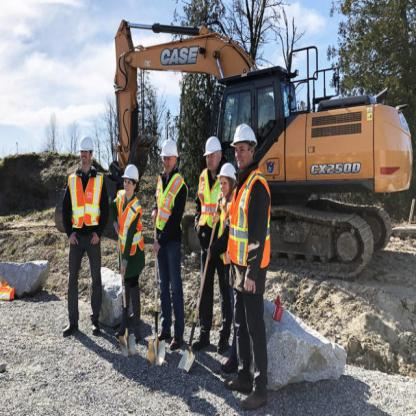person: (232, 113, 279, 407), (54, 127, 104, 340), (191, 111, 231, 358), (152, 125, 191, 346), (111, 151, 148, 333), (219, 162, 237, 358)
